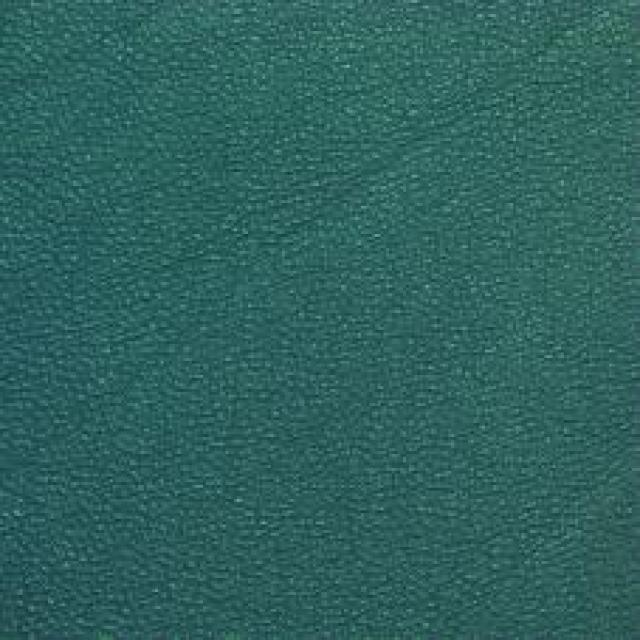Growth Marks: (282, 96, 498, 244)
